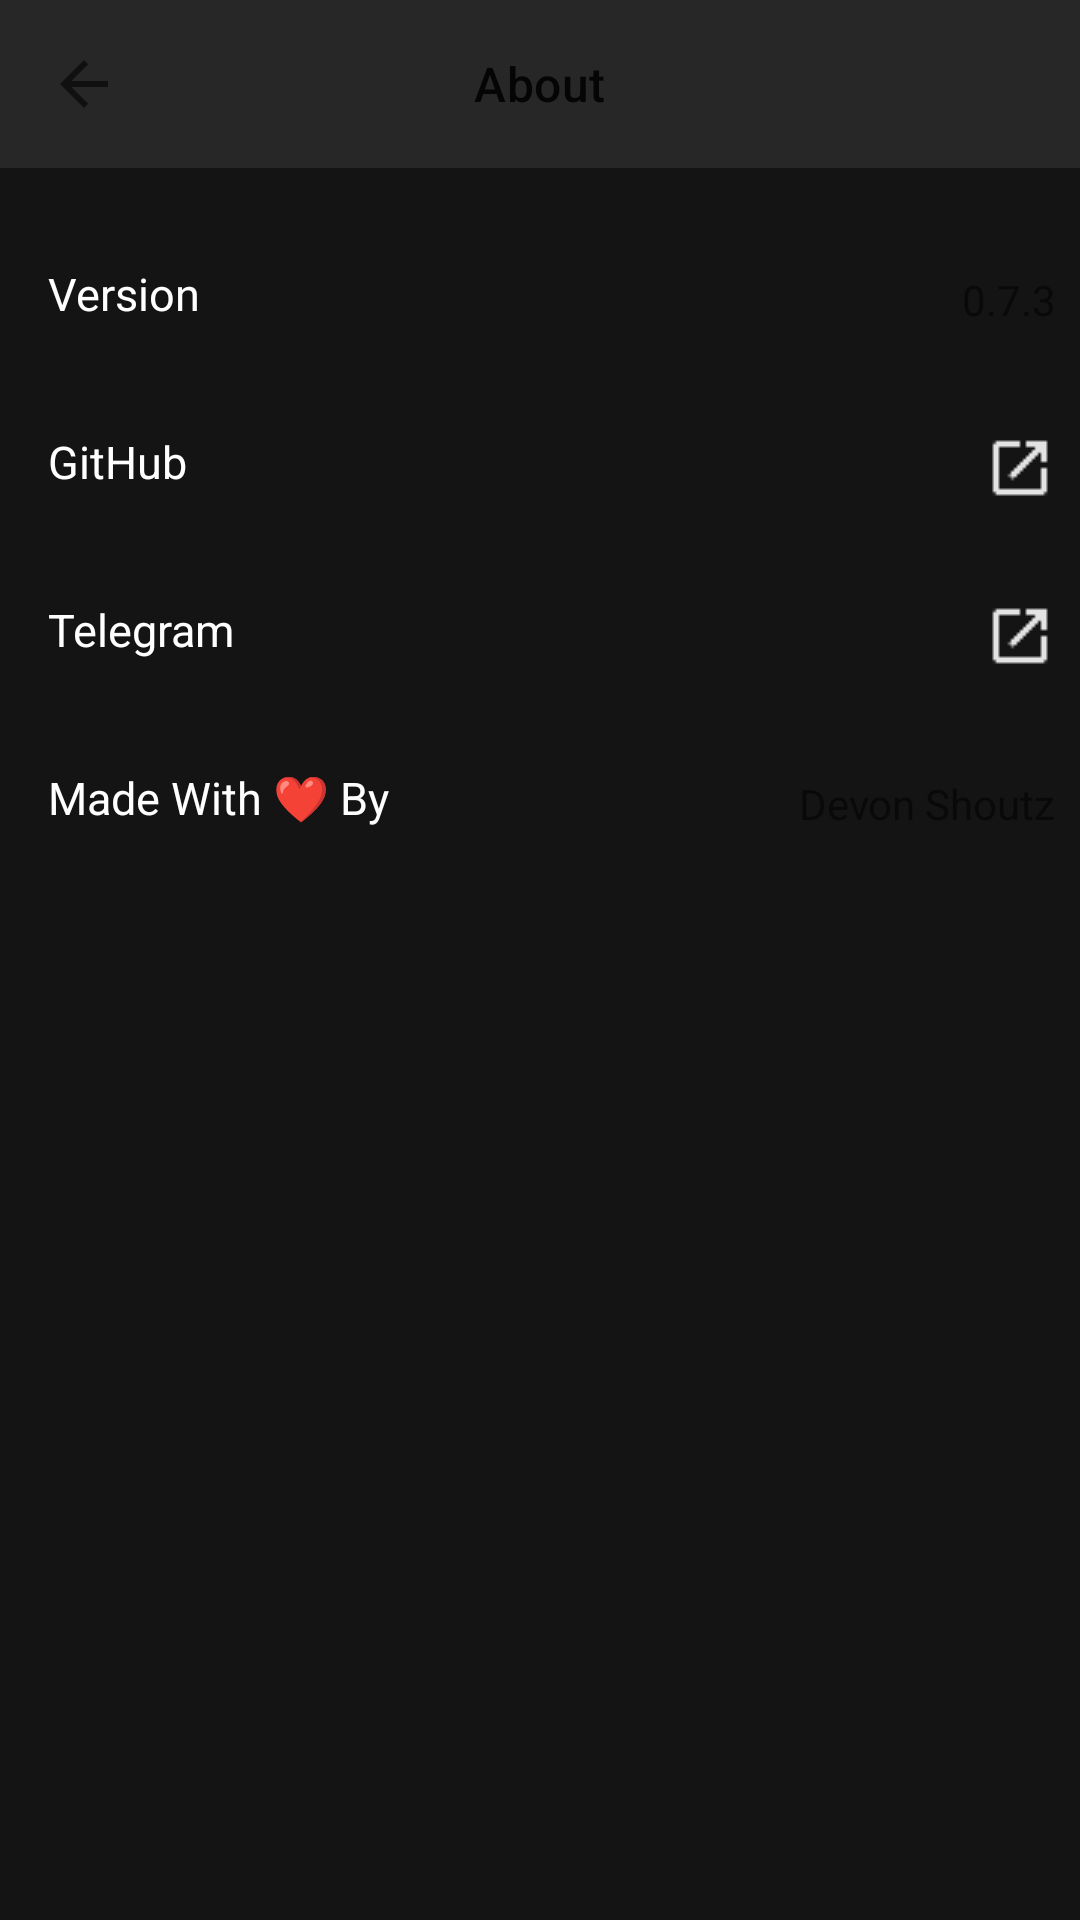

Screen size 1080*1920. Icon name, then its center in pixels as (x,y):
open in: (1020,468), (1020,636)
